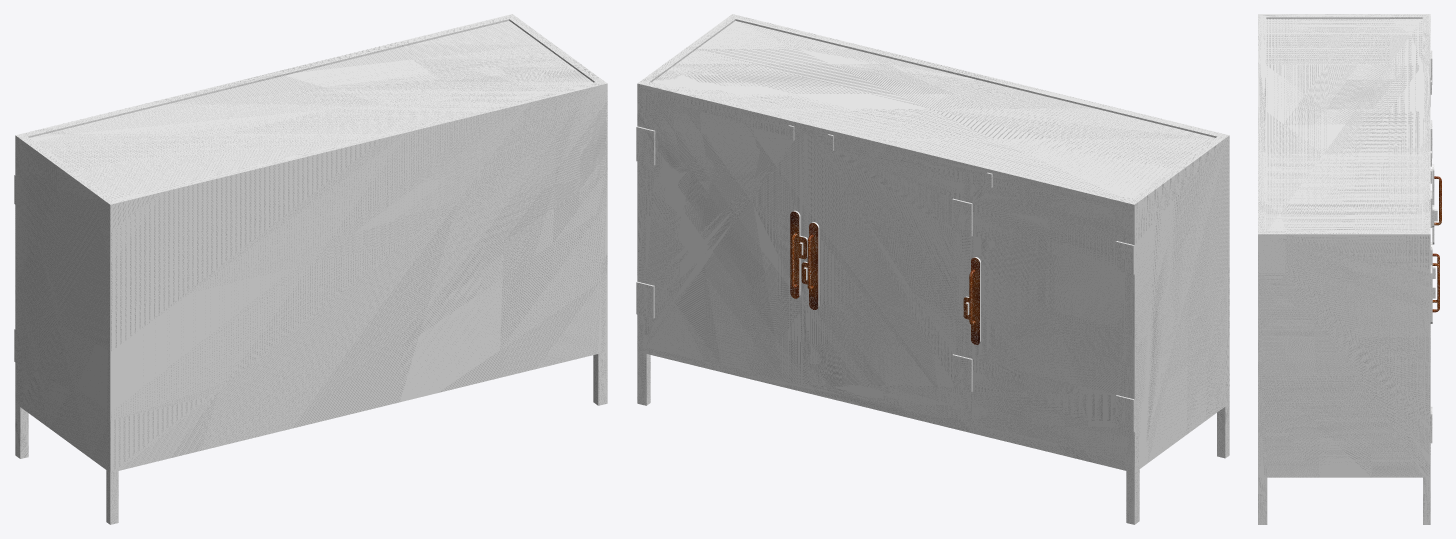
3 renders of one model, left to right at view 1: azimuth 30°, elevation 25°; view 2: azimuth 150°, elevation 25°; view 3: azimuth 270°, elevation 25°, orthographic. The views are drawn at different scales.
Parts seen in each view (by area): view 1: mesh10_mesh10-geometry; view 2: mesh10_mesh10-geometry, mesh4_mesh4-geometry, mesh1_mesh1-geometry, mesh7_mesh7-geometry; view 3: mesh10_mesh10-geometry, mesh7_mesh7-geometry, mesh1_mesh1-geometry.
Boxes of the visible parts, bbox=[...] form: mesh10_mesh10-geometry: bbox=[14, 14, 607, 524]; mesh10_mesh10-geometry: bbox=[636, 14, 1229, 524]; mesh4_mesh4-geometry: bbox=[801, 222, 819, 309]; mesh1_mesh1-geometry: bbox=[790, 210, 807, 298]; mesh7_mesh7-geometry: bbox=[963, 257, 980, 344]; mesh10_mesh10-geometry: bbox=[1258, 14, 1432, 524]; mesh7_mesh7-geometry: bbox=[1432, 164, 1441, 244]; mesh1_mesh1-geometry: bbox=[1430, 244, 1439, 323].
Size of the model in its own units: 0.8157 by 0.502 by 0.2874.
